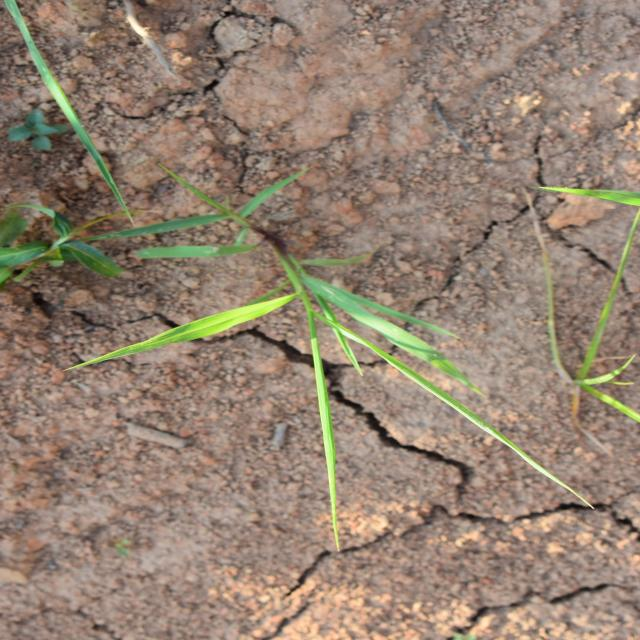green_foxtail: (145, 150, 405, 466)
